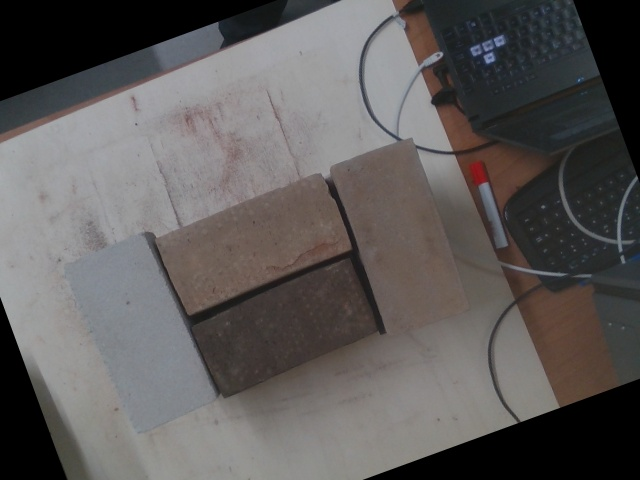brick: (65, 233, 215, 434), (330, 138, 470, 335), (158, 173, 348, 314), (189, 259, 378, 397)
